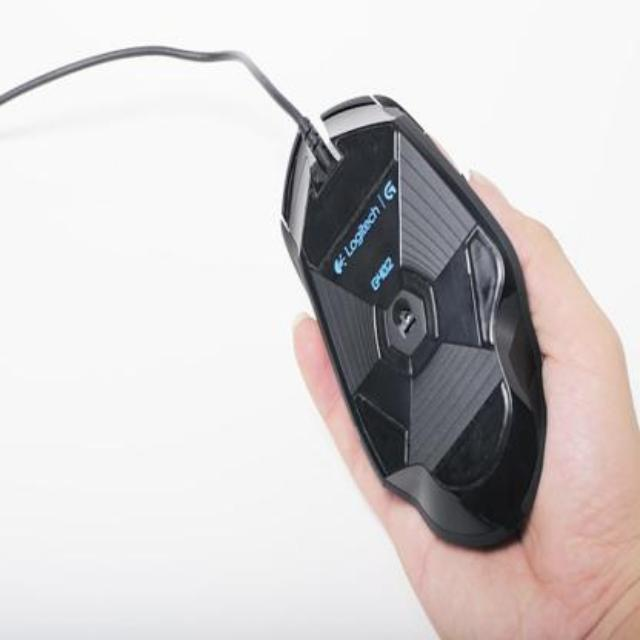Computer-Mouse: (215, 23, 547, 547)
